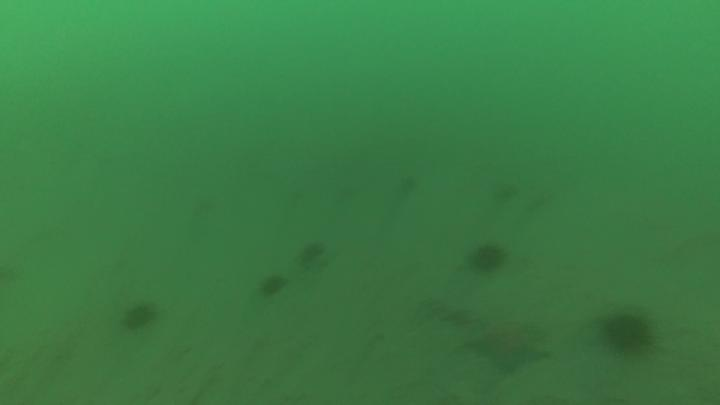echinus: (596, 309, 660, 358), (466, 241, 511, 278), (120, 298, 159, 335), (297, 239, 331, 269), (259, 272, 291, 302)
starfish: (460, 314, 559, 382)
